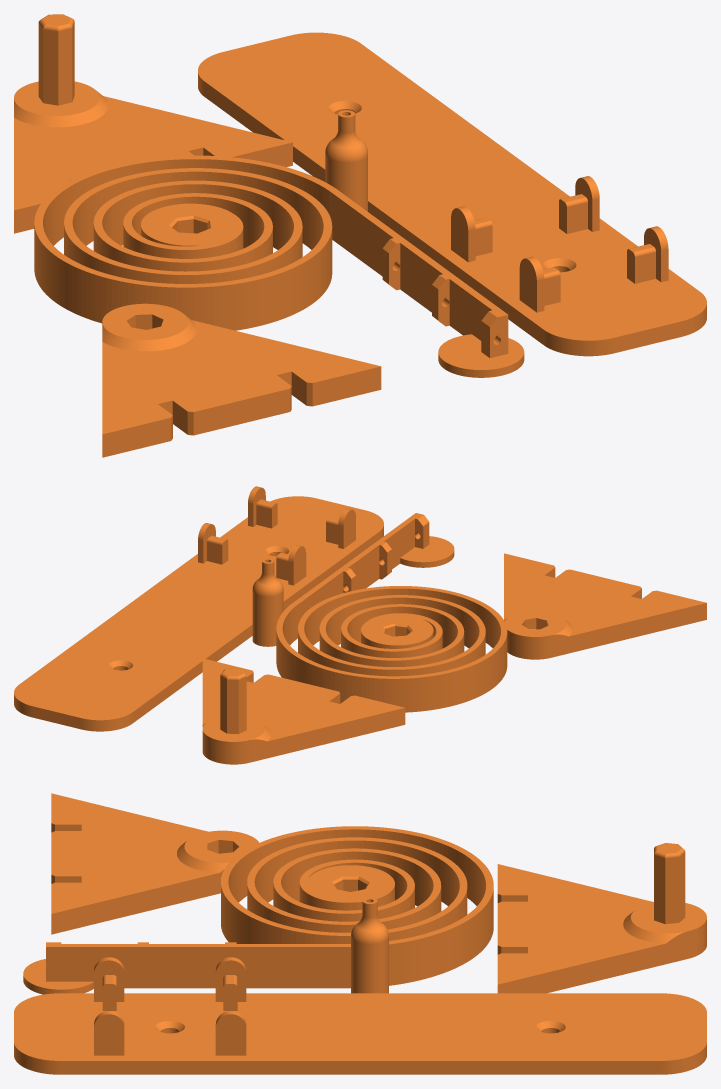
The model's file is cat-toy.glb.
The picture shows the model from 3 angles, top to bottom: view 1: azimuth 30°, elevation 25°; view 2: azimuth 150°, elevation 25°; view 3: azimuth 270°, elevation 25°; orthographic projection. The views are drawn at different scales.
Visible parts, largest first — view 1: Base_v2.stl_fil1, Spring_v2.stl_fil1, Mount-Right_v2.stl_fil1, Mount-Left_v2.stl_fil1, Pom-Pom-Holder.stl_fil1; view 2: Base_v2.stl_fil1, Spring_v2.stl_fil1, Mount-Left_v2.stl_fil1, Mount-Right_v2.stl_fil1, Pom-Pom-Holder.stl_fil1; view 3: Base_v2.stl_fil1, Spring_v2.stl_fil1, Mount-Left_v2.stl_fil1, Mount-Right_v2.stl_fil1, Pom-Pom-Holder.stl_fil1.
Boxes of the visible parts, bbox=[...] form: Base_v2.stl_fil1: bbox=[198, 32, 706, 356]; Spring_v2.stl_fil1: bbox=[34, 155, 524, 377]; Mount-Right_v2.stl_fil1: bbox=[102, 303, 381, 457]; Mount-Left_v2.stl_fil1: bbox=[14, 14, 292, 233]; Pom-Pom-Holder.stl_fil1: bbox=[325, 110, 367, 211]; Base_v2.stl_fil1: bbox=[14, 486, 383, 731]; Spring_v2.stl_fil1: bbox=[276, 513, 507, 712]; Mount-Left_v2.stl_fil1: bbox=[202, 658, 405, 764]; Mount-Right_v2.stl_fil1: bbox=[504, 553, 706, 659]; Pom-Pom-Holder.stl_fil1: bbox=[252, 558, 283, 646]; Base_v2.stl_fil1: bbox=[14, 957, 706, 1074]; Spring_v2.stl_fil1: bbox=[23, 826, 493, 994]; Mount-Left_v2.stl_fil1: bbox=[497, 843, 706, 993]; Mount-Right_v2.stl_fil1: bbox=[51, 793, 259, 934]; Pom-Pom-Holder.stl_fil1: bbox=[351, 897, 388, 993].
Bounding box in the file's own units: 0.162 × 0.028 × 0.182.
